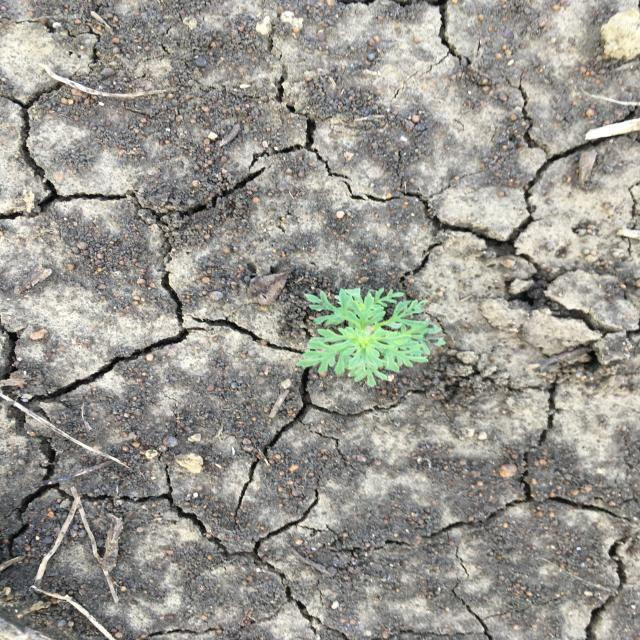Ragweed: (289, 284, 449, 390)
